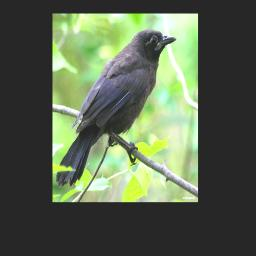Crow: (55, 28, 176, 188)
